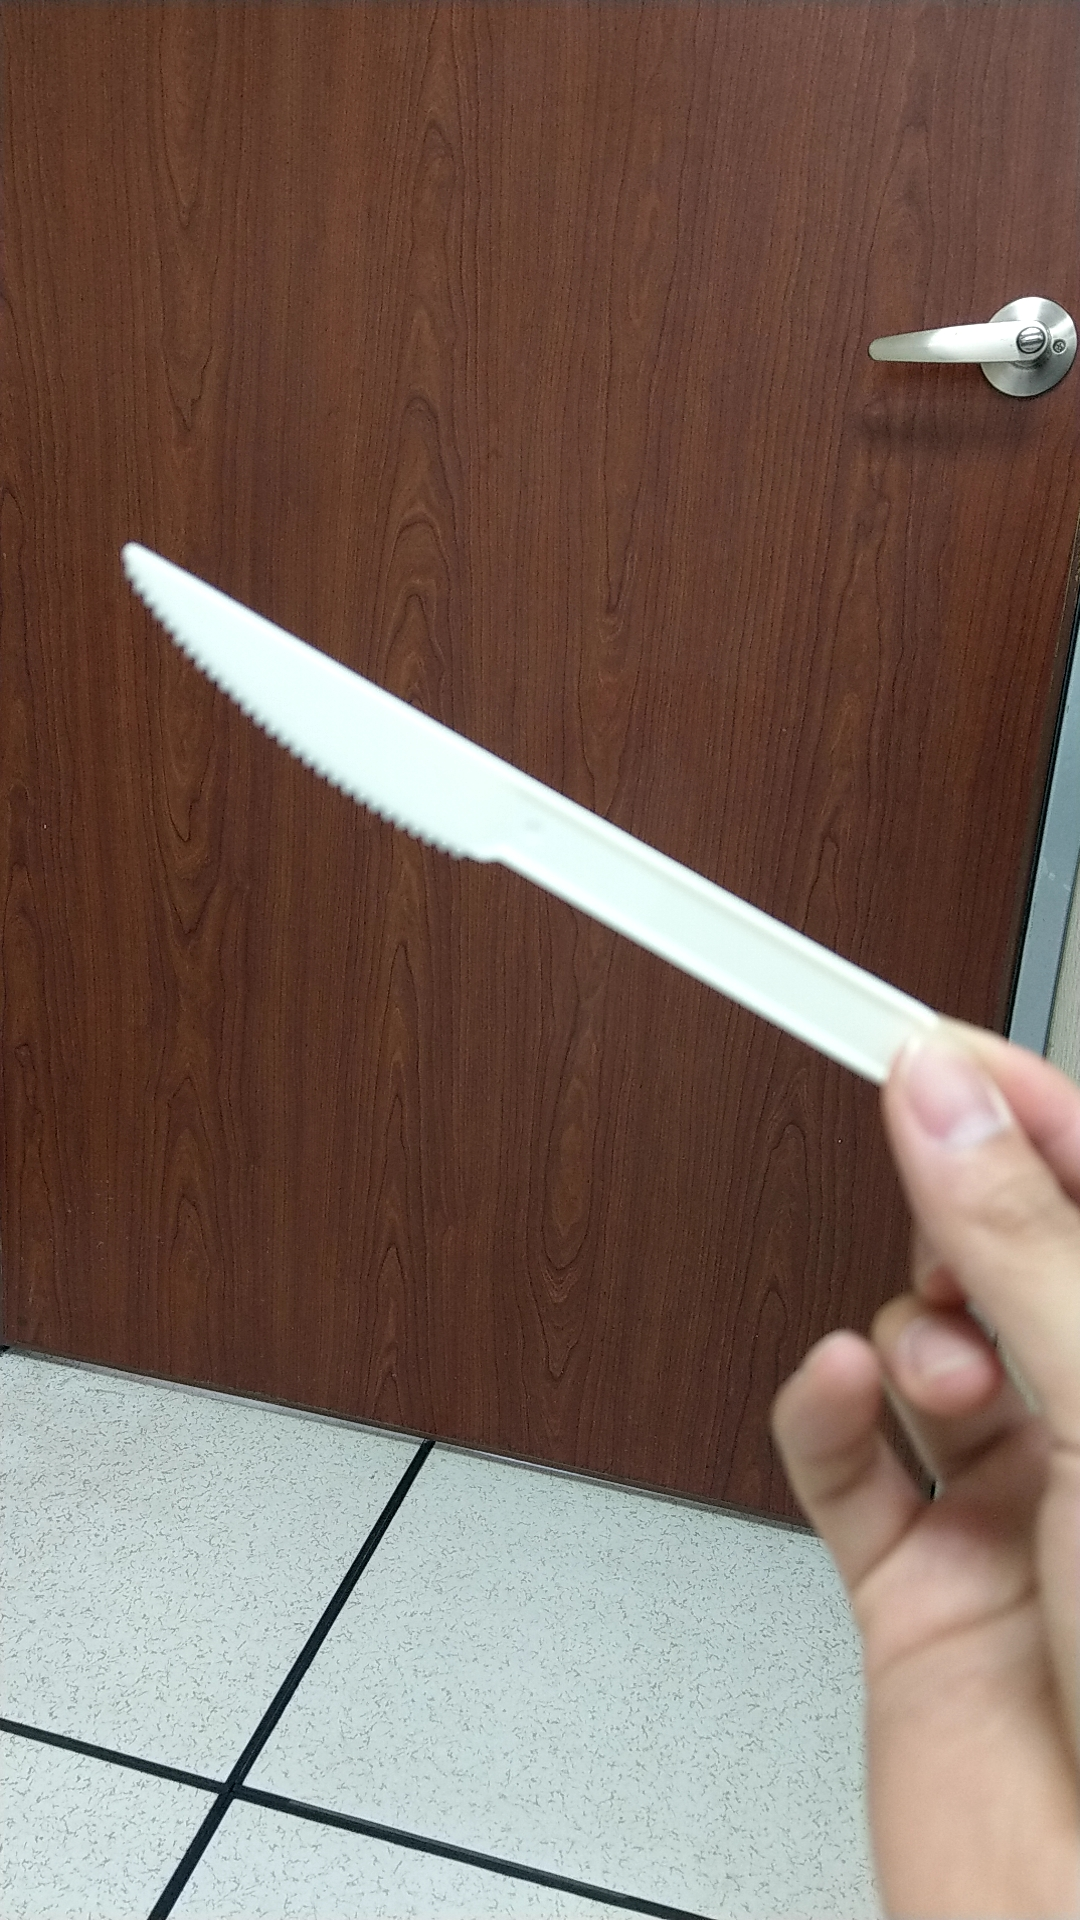knife: (98, 529, 893, 1083)
